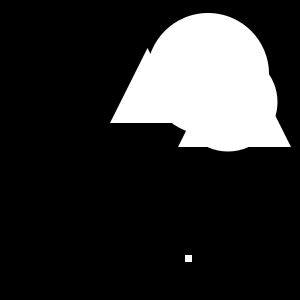circle: (185, 255, 192, 262)
rectangle: (147, 13, 269, 135), (178, 53, 278, 152)
triangle: (178, 34, 291, 147), (110, 48, 185, 123)
